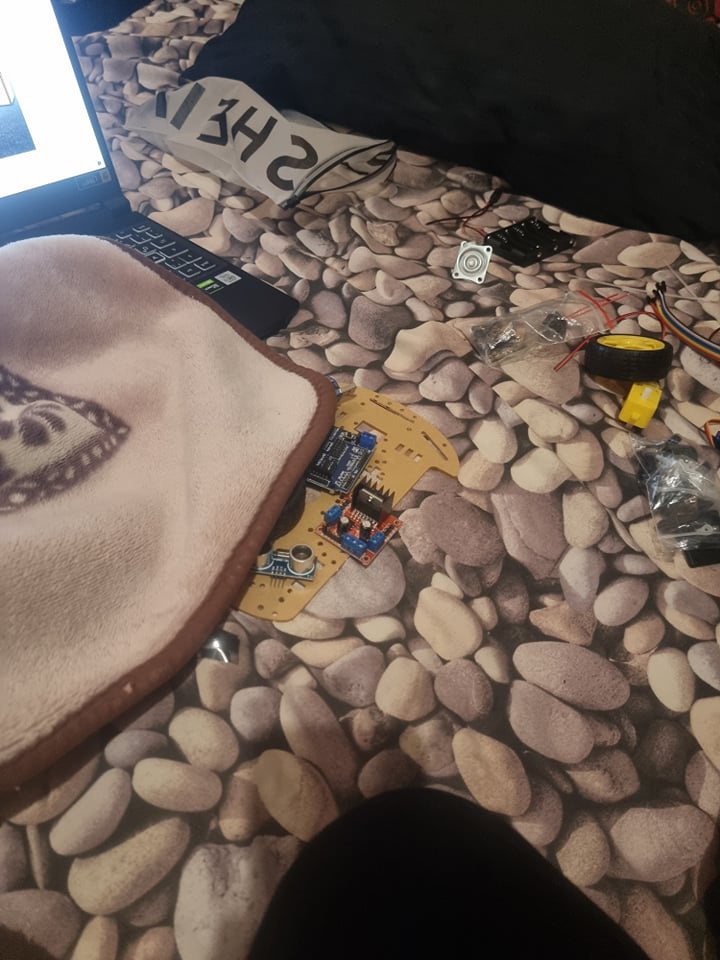5V EXPANSION: (304, 424, 378, 494)
BATTERY BOX: (487, 212, 573, 267)
MOTOR: (319, 478, 404, 568)
SENSOR: (250, 540, 317, 575)
